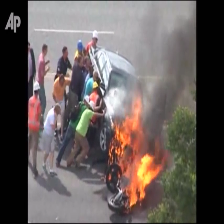fire_h: (108, 87, 168, 208)
fire_l: (117, 172, 121, 178), (108, 173, 111, 180)
